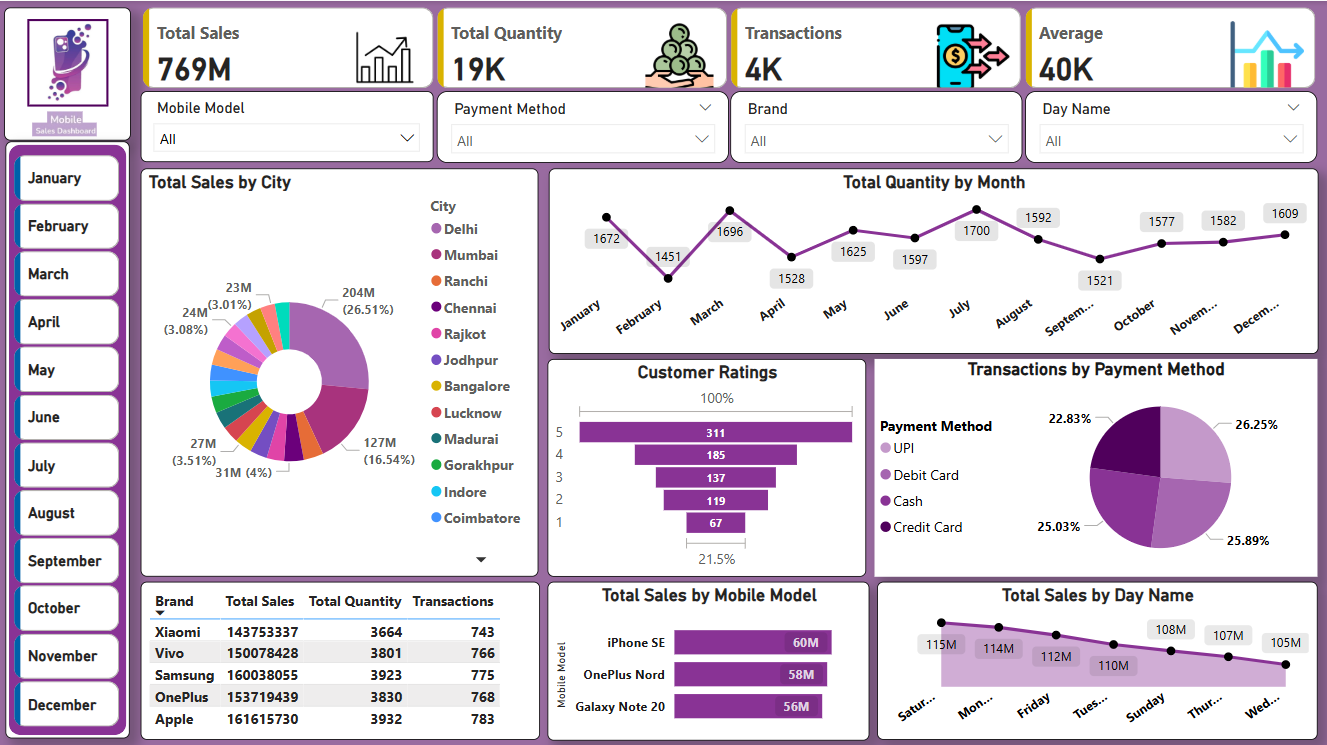

The page's visual inventory and layout, read from the dashboard file:
{"tool":"powerbi","page":{"name":"Page 1","canvas":[1280,720],"ordinal":0},"visuals":[{"type":"shape","box":[5,6.7,121.7,128.3],"z":0},{"type":"shape","box":[6.7,135,120,575],"z":1000},{"type":"advancedSlicerVisual","fields":{"Values":["Sales_Data.Date.Variation.Date Hierarchy.Month"]},"box":[10,143.3,111.7,560],"z":2000},{"type":"cardVisual","fields":{"Data":["Sales_Data.Total Sales","Sales_Data.Total Quantity","Sales_Data.Transactions","Sales_Data.Average"]},"box":[134,5.6,1140.1,83.7],"z":3000},{"type":"lineChart","fields":{"Y":["Sales_Data.Total Quantity"],"Category":["Sales_Data.Date.Variation.Date Hierarchy.Month","Sales_Data.Date.Variation.Date Hierarchy.Day"]},"box":[528.8,160.6,740.9,178.8],"z":4000},{"type":"clusteredBarChart","fields":{"Category":["Sales_Data.Mobile Model"],"Y":["Sales_Data.Total Sales"]},"box":[528.3,558.3,310,153.3],"z":5000},{"type":"pieChart","fields":{"Category":["Sales_Data.Payment Method"],"Y":["Sales_Data.Transactions"]},"box":[843.3,345,426.7,210],"z":6000},{"type":"funnel","title":"Customer Ratings","fields":{"Category":["Sales_Data.Customer Ratings"],"Y":["CountNonNull(Sales_Data.Customer Ratings)"]},"box":[528.3,345,306.7,210],"z":7000},{"type":"areaChart","fields":{"Category":["Sales_Data.Day Name"],"Y":["Sales_Data.Total Sales"]},"box":[845.2,558.9,423.9,152.4],"z":8000},{"type":"tableEx","fields":{"Values":["Sales_Data.Brand","Sales_Data.Total Sales","Sales_Data.Total Quantity","Sales_Data.Transactions"]},"box":[136.3,558.9,384.2,152.4],"z":9000},{"type":"slicer","fields":{"Values":["Sales_Data.Mobile Model"]},"box":[136.7,86.7,281.7,68.3],"z":10000},{"type":"slicer","fields":{"Values":["Sales_Data.Payment Method"]},"box":[421,87.1,281.4,69.2],"z":11000},{"type":"slicer","fields":{"Values":["Sales_Data.Brand"]},"box":[703.5,87.1,281.4,69.2],"z":12000},{"type":"slicer","fields":{"Values":["Sales_Data.Day Name"]},"box":[988.2,87.1,281.4,69.2],"z":13000},{"type":"donutChart","fields":{"Y":["Sales_Data.Total Sales"],"Category":["Sales_Data.City"]},"box":[136.3,161.1,383,392.9],"z":14000},{"type":"image","box":[14.9,17.4,100.4,84.3],"z":15000},{"type":"shape","box":[27.3,17.4,78.1,84.3],"z":16000},{"type":"image","box":[27.3,86.8,71.9,74.4],"z":17000},{"type":"image","box":[40.9,101.6,44.6,23.5],"z":17001}]}

Visuals, with their boxes in screenshot pixels (x1, y1, x2, y2), scaled from the page's 1280x720 canvas onto the 1327x745 screenshot:
shape: select_region(5, 7, 131, 140)
shape: select_region(7, 140, 131, 735)
advancedSlicerVisual - Sales_Data.Date.Variation.Date Hierarchy.Month: select_region(10, 148, 126, 728)
cardVisual - Sales_Data.Total Sales x Sales_Data.Total Quantity: select_region(139, 6, 1321, 92)
lineChart - Sales_Data.Total Quantity x Sales_Data.Date.Variation.Date Hierarchy.Month: select_region(548, 166, 1316, 351)
clusteredBarChart - Sales_Data.Mobile Model x Sales_Data.Total Sales: select_region(548, 578, 869, 736)
pieChart - Sales_Data.Payment Method x Sales_Data.Transactions: select_region(874, 357, 1317, 574)
"Customer Ratings" funnel: select_region(548, 357, 866, 574)
areaChart - Sales_Data.Day Name x Sales_Data.Total Sales: select_region(876, 578, 1316, 736)
tableEx - Sales_Data.Brand x Sales_Data.Total Sales: select_region(141, 578, 540, 736)
slicer - Sales_Data.Mobile Model: select_region(142, 90, 434, 160)
slicer - Sales_Data.Payment Method: select_region(436, 90, 728, 162)
slicer - Sales_Data.Brand: select_region(729, 90, 1021, 162)
slicer - Sales_Data.Day Name: select_region(1024, 90, 1316, 162)
donutChart - Sales_Data.Total Sales x Sales_Data.City: select_region(141, 167, 538, 573)
image: select_region(15, 18, 120, 105)
shape: select_region(28, 18, 109, 105)
image: select_region(28, 90, 103, 167)
image: select_region(42, 105, 89, 129)
